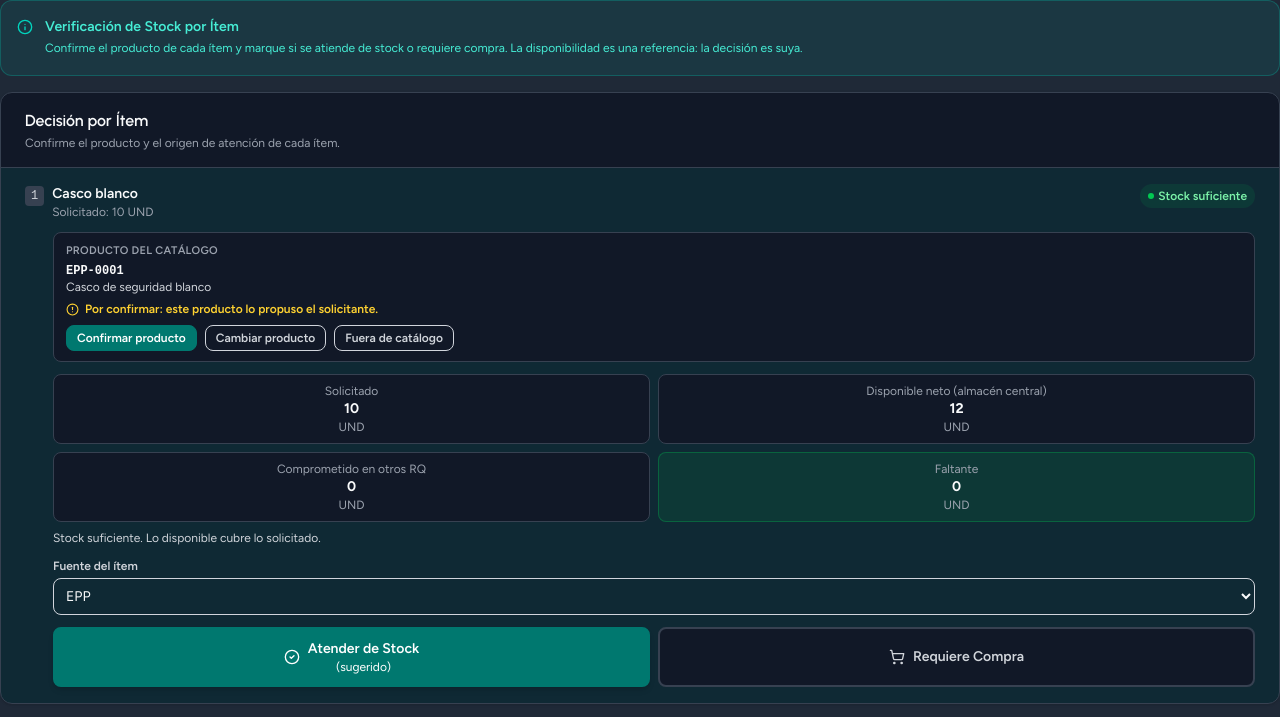
StockCheckPanel — el foco no cae al <body> al resolver un ítem › tras "Confirmar producto" el foco queda en "Cambiar el producto vinculado" del mismo ítem
Click the button with aria-label "Confirmar el producto vinculado del ítem 1" at (131, 338), box 66,325 -> 197,351
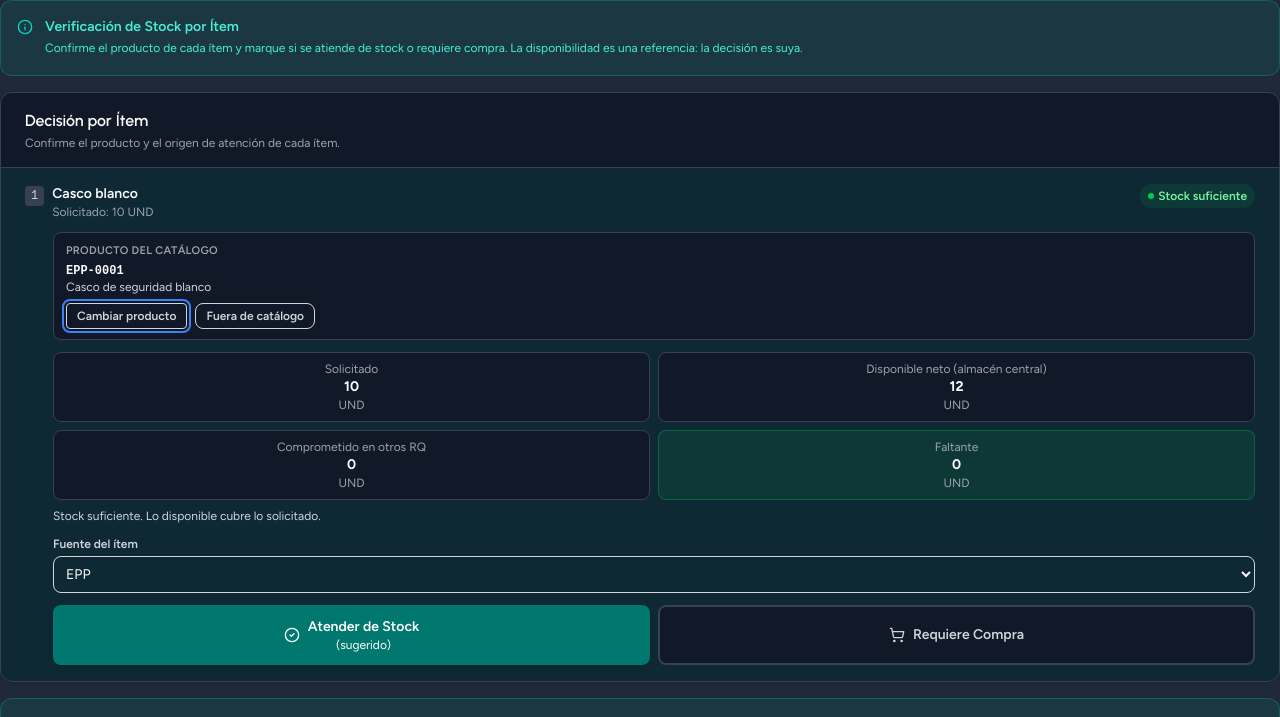
Check: the text "Por confirmar" is gone
